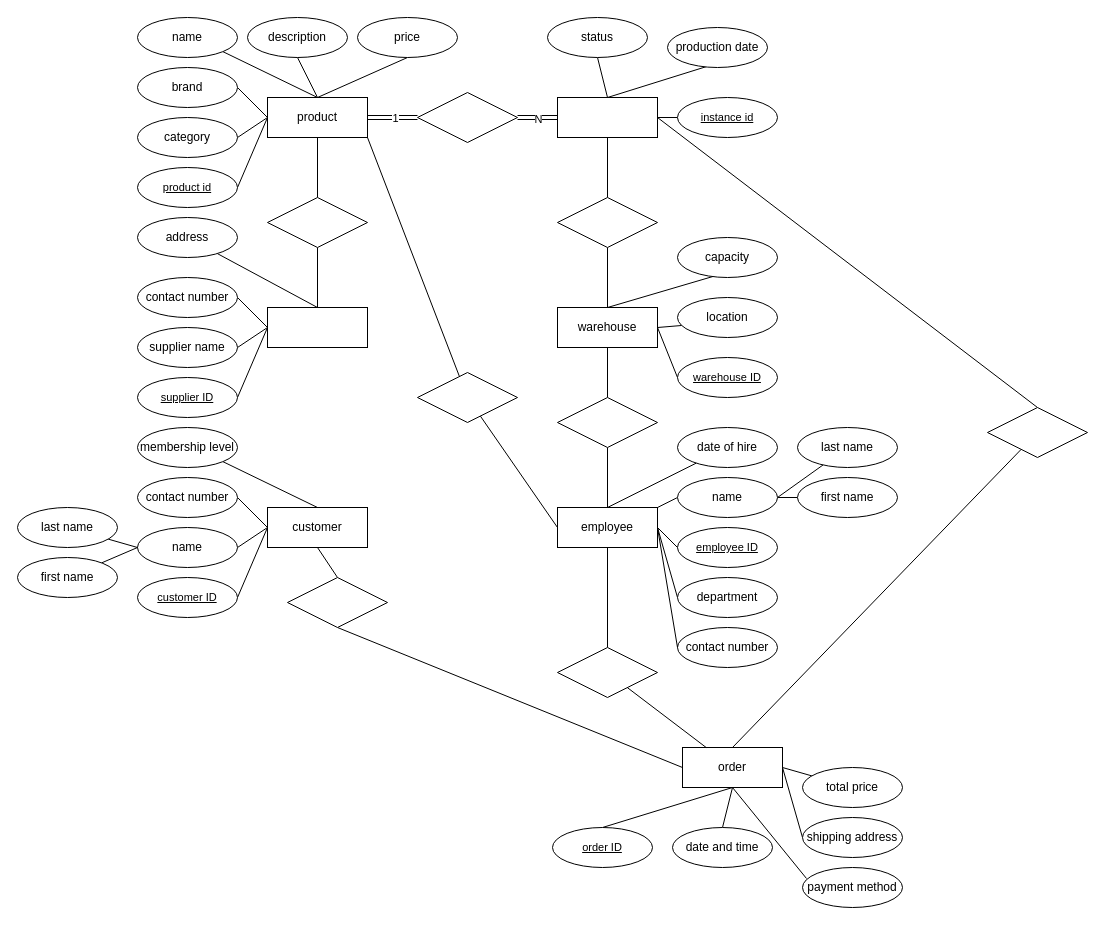
This 1105x925 diagram has some shape labels left out. Here are the shapes that lost their labels. From the top down, the box of each, then its label:
(416, 92, 518, 142): Has_Instance
(556, 96, 658, 138): product instance
(266, 196, 368, 248): Supplies
(556, 196, 658, 248): Stores
(266, 306, 368, 348): supplier
(416, 372, 518, 422): oversees
(556, 396, 658, 448): Manages
(986, 406, 1088, 458): Contains
(286, 576, 388, 628): Places
(556, 646, 658, 698): Processes
